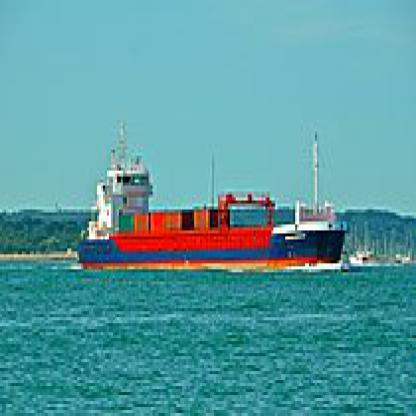Container Ship: (75, 119, 347, 271)
